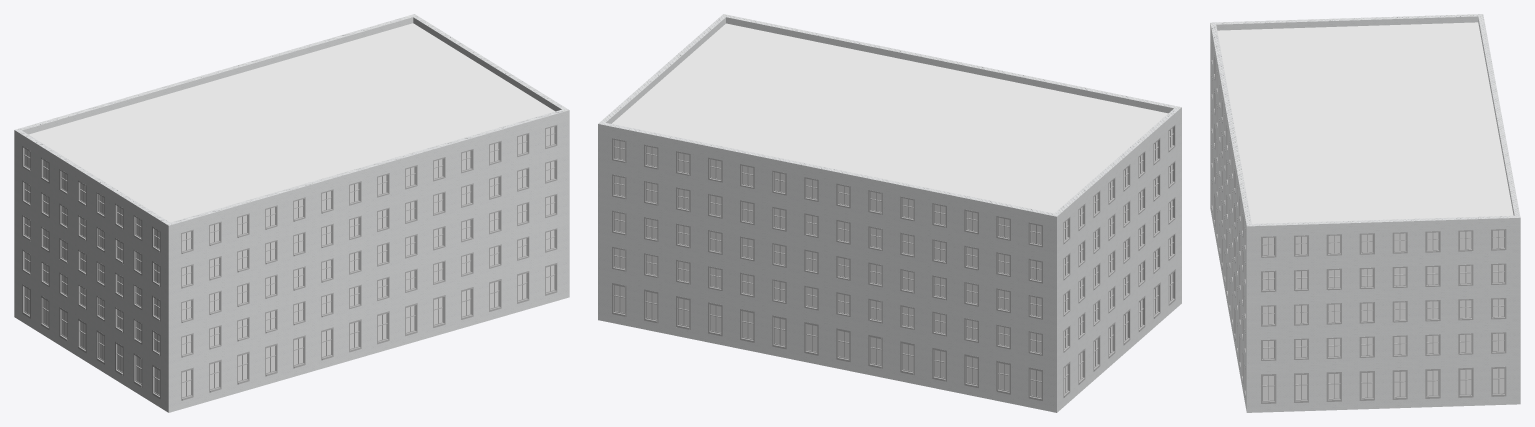
The model's file is clohbp3ns02vd4p02tou0j8sd_0.glb.
3 renders of one model, left to right at view 1: azimuth 30°, elevation 25°; view 2: azimuth 150°, elevation 25°; view 3: azimuth 270°, elevation 25°, orthographic. The views are drawn at different scales.
Parts seen in each view (by area): view 1: mesh_Brick, mesh_CityEnginePBRShader, mesh_Rim, mesh_Glass; view 2: mesh_Brick, mesh_CityEnginePBRShader, mesh_Rim, mesh_Glass; view 3: mesh_CityEnginePBRShader, mesh_Brick, mesh_Rim, mesh_Glass.
Boxes of the visible parts, bbox=[...] form: mesh_Brick: bbox=[14, 14, 569, 412]; mesh_CityEnginePBRShader: bbox=[28, 23, 554, 222]; mesh_Rim: bbox=[22, 125, 557, 400]; mesh_Glass: bbox=[25, 126, 554, 397]; mesh_Brick: bbox=[598, 14, 1181, 412]; mesh_CityEnginePBRShader: bbox=[612, 23, 1167, 213]; mesh_Rim: bbox=[612, 125, 1175, 400]; mesh_Glass: bbox=[614, 128, 1172, 397]; mesh_CityEnginePBRShader: bbox=[1217, 22, 1513, 223]; mesh_Brick: bbox=[1210, 14, 1520, 412]; mesh_Rim: bbox=[1211, 41, 1506, 403]; mesh_Glass: bbox=[1263, 230, 1504, 400].
Bounding box in the file's own units: 46.12 × 18.89 × 28.45.
Materials: 4 (1 with a texture image).
